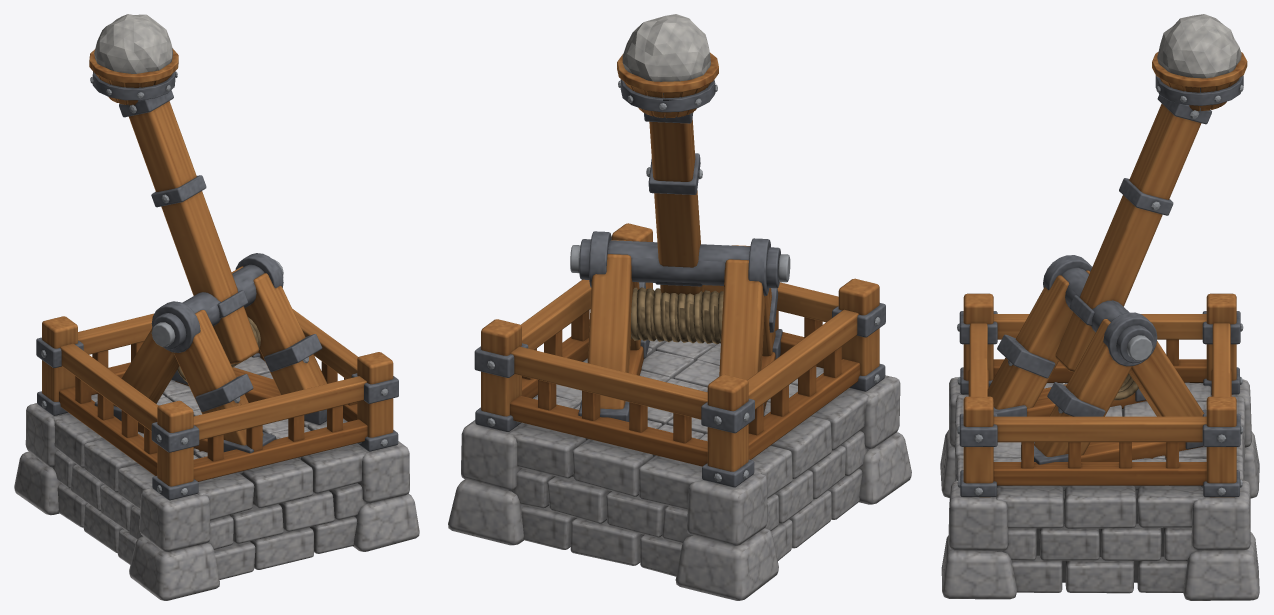
Rendered from LongshotCatapult.fbx.
3 views of the same model, side by side, from view 1: azimuth 30°, elevation 25°; view 2: azimuth 150°, elevation 25°; view 3: azimuth 270°, elevation 25° (orthographic). The views are drawn at different scales.
Parts seen in each view (by area): view 1: CatapultBase, CatapultFrame, CatapultArm, LoadedStone; view 2: CatapultBase, CatapultFrame, CatapultArm, LoadedStone; view 3: CatapultBase, CatapultFrame, CatapultArm, LoadedStone.
Boxes of the visible parts, box(x1,y1,x2,y2) form: CatapultBase: box(14, 309, 419, 600); CatapultFrame: box(94, 253, 327, 453); CatapultArm: box(89, 48, 258, 364); LoadedStone: box(94, 14, 172, 85); CatapultBase: box(448, 223, 911, 600); CatapultFrame: box(570, 231, 790, 421); CatapultArm: box(617, 52, 718, 295); LoadedStone: box(622, 14, 710, 96); CatapultBase: box(940, 293, 1259, 600); CatapultFrame: box(987, 255, 1206, 464); CatapultArm: box(1055, 52, 1247, 371); LoadedStone: box(1157, 14, 1241, 92).
Size of the model in its own units: 0.918 by 1.58 by 0.9164.
Materials: 1 (1 with a texture image).
